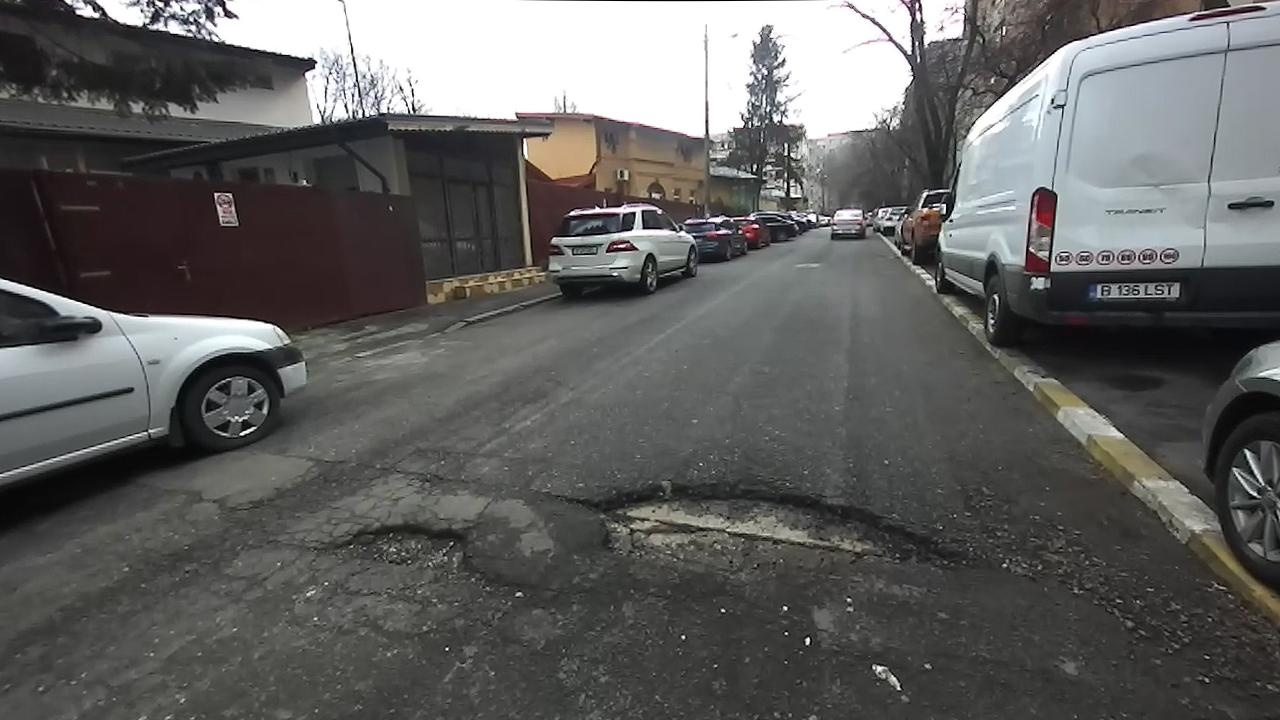pothole: (569, 470, 1002, 592), (322, 518, 523, 594)
